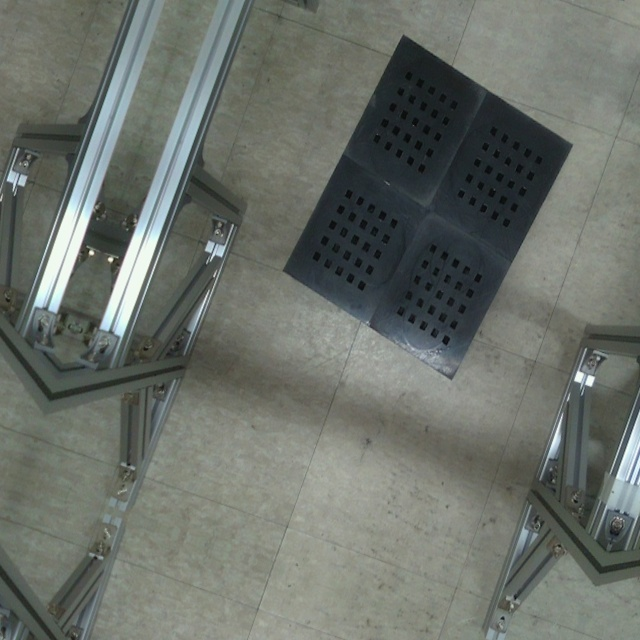pallet: (261, 13, 598, 401)
